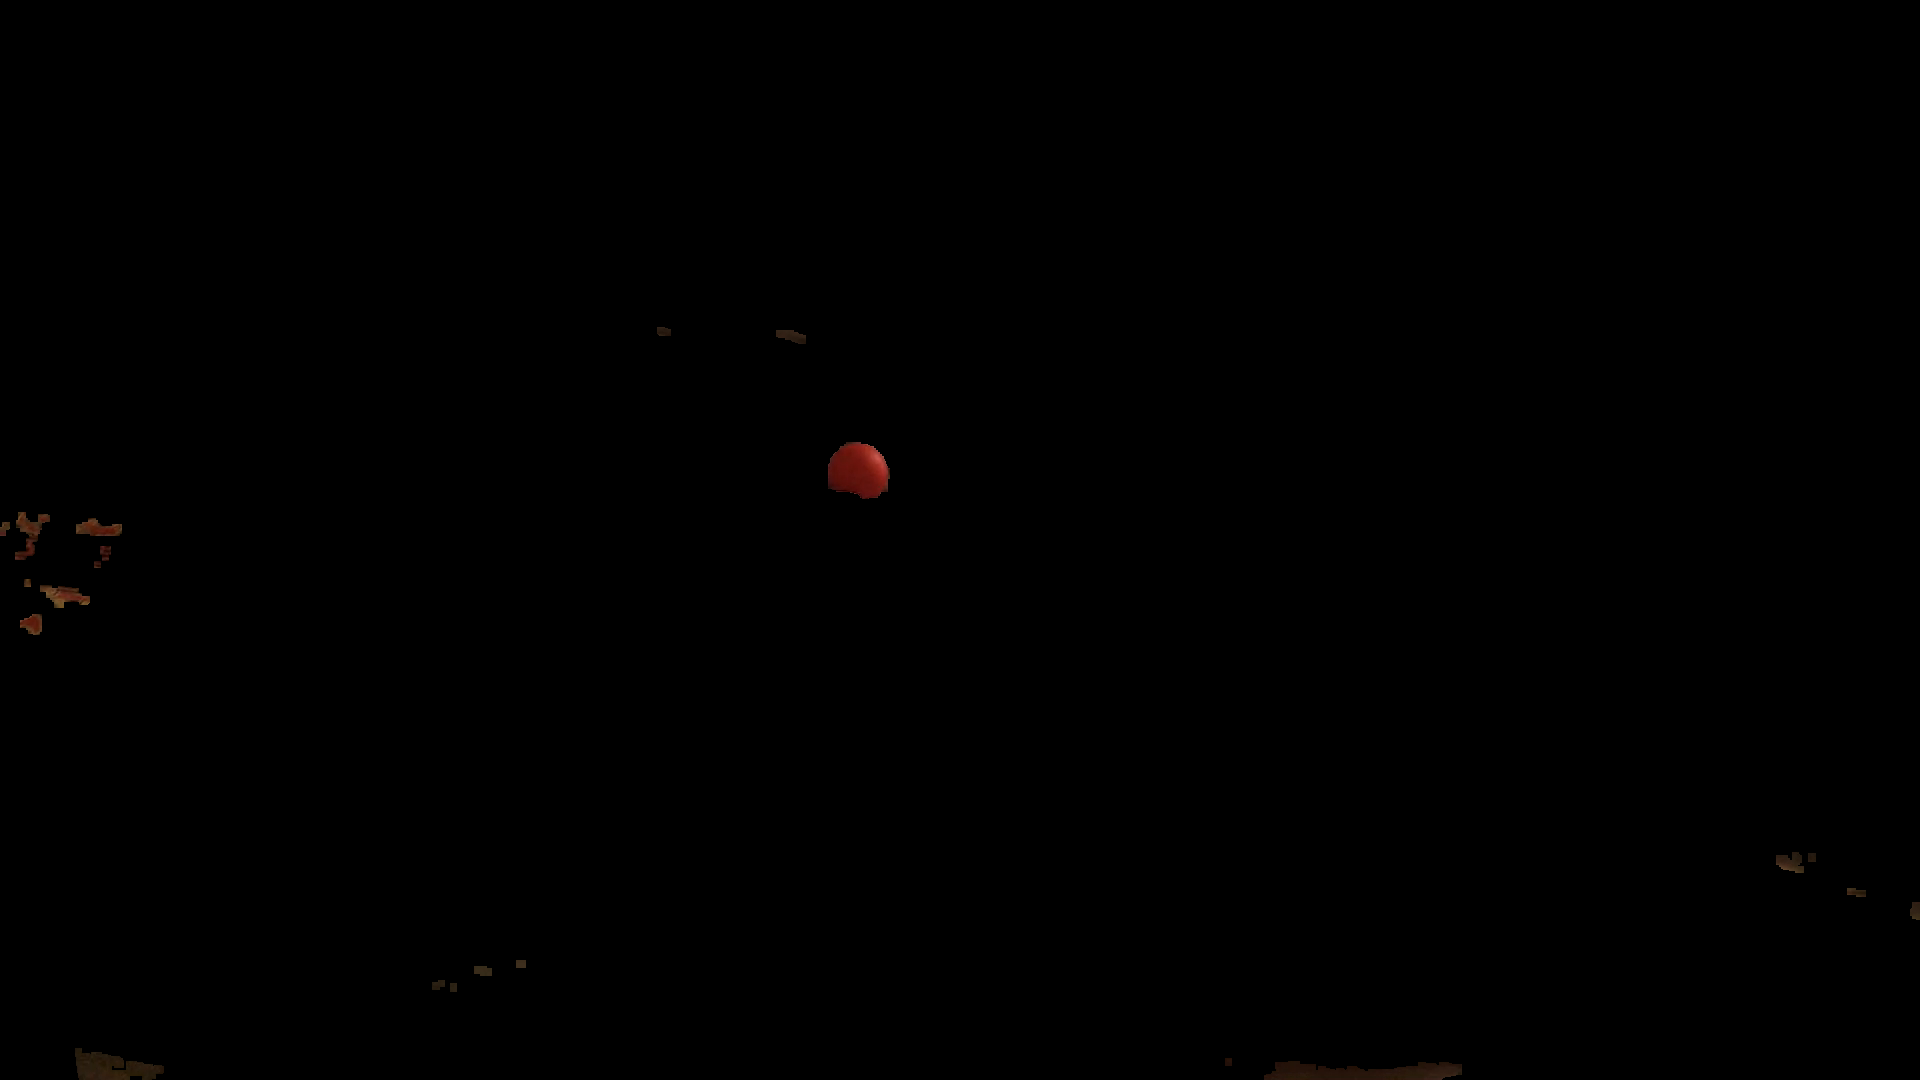Ball: (823, 444, 889, 500)
